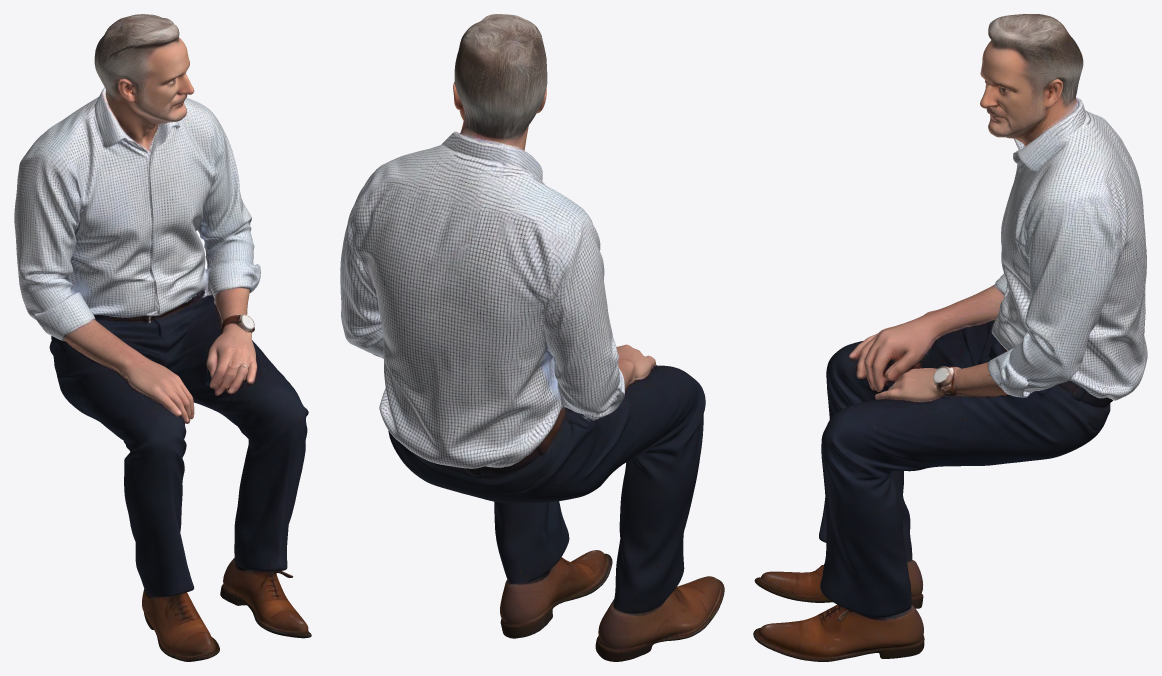
The model's file is professional_portrait_in_business_casual.glb.
3 views of the same model, side by side, from view 1: azimuth 30°, elevation 25°; view 2: azimuth 150°, elevation 25°; view 3: azimuth 270°, elevation 25° (orthographic). The views are drawn at different scales.
Visible parts, largest first — view 1: Object_5, Object_7, Object_6; view 2: Object_6, Object_5, Object_7; view 3: Object_5, Object_6, Object_7.
Boxes of the visible parts, x1,y1,x2,y2 form: Object_5: (15, 14, 311, 661); Object_7: (51, 30, 287, 624); Object_6: (14, 14, 250, 414); Object_6: (340, 15, 624, 503); Object_5: (378, 14, 724, 658); Object_7: (494, 15, 694, 661); Object_5: (753, 14, 1085, 661); Object_6: (988, 14, 1147, 465); Object_7: (857, 21, 1028, 658).
Bounding box in the file's own units: 0.8195 × 1.9 × 1.11.
Materials: 1 (1 with a texture image).
